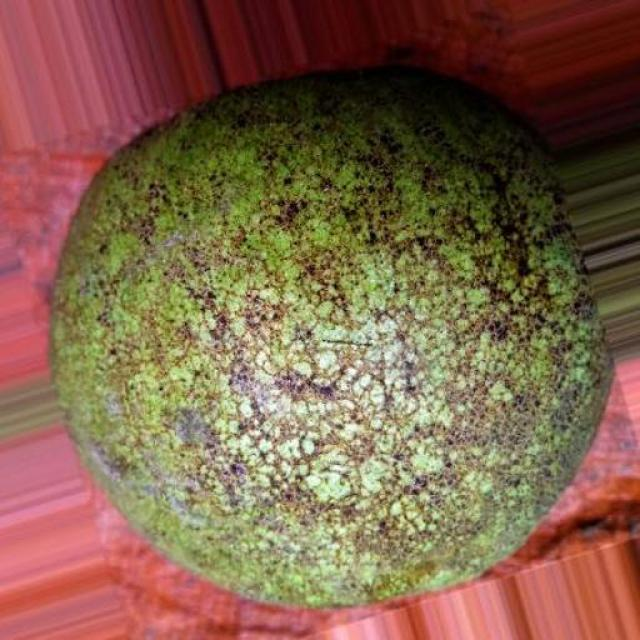Scab: (52, 74, 611, 606)
